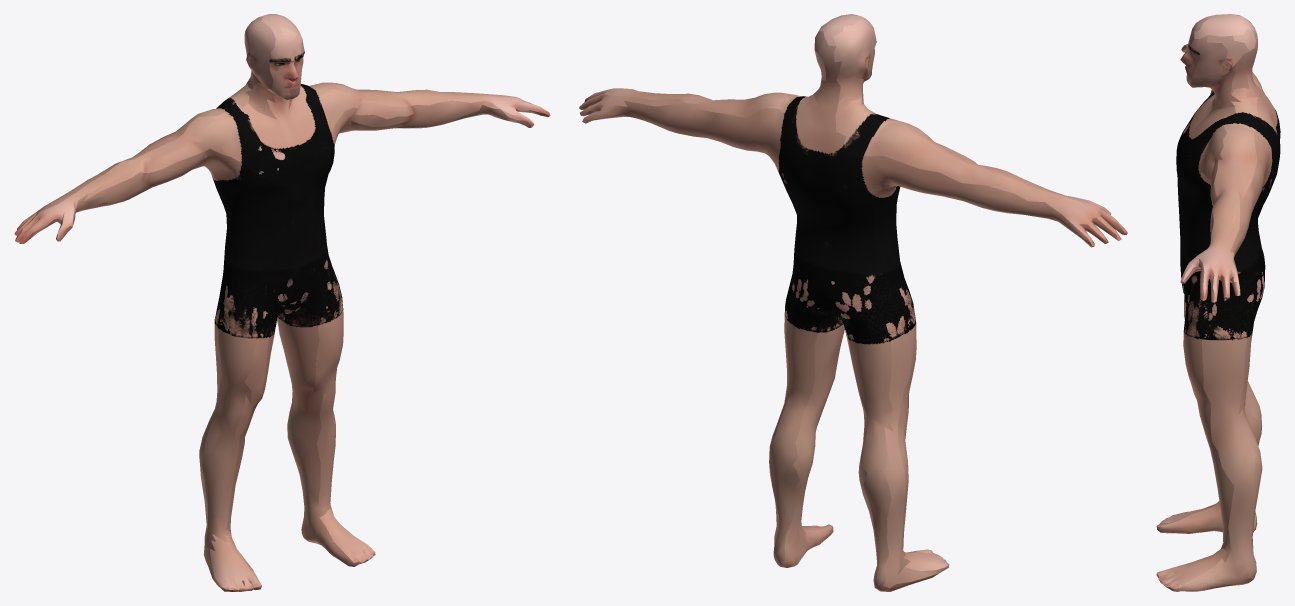
Rendered from body_bald_registered.glb.
3 views of the same model, side by side, from view 1: azimuth 30°, elevation 25°; view 2: azimuth 150°, elevation 25°; view 3: azimuth 270°, elevation 25° (orthographic). The views are drawn at different scales.
Parts seen in each view (by area): view 1: RBX_BODY_body_bald; view 2: RBX_BODY_body_bald; view 3: RBX_BODY_body_bald.
Part boxes in pixels (x1,y1,x2,y2): RBX_BODY_body_bald: (14,14,550,591); RBX_BODY_body_bald: (579,14,1127,591); RBX_BODY_body_bald: (1156,14,1280,591).
Size of the model in its own units: 1.04 by 1.01 by 0.2105.
Materials: 1 (1 with a texture image).
